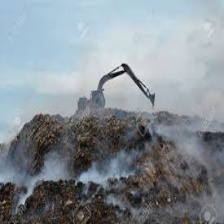smoke: (6, 156, 135, 200)
